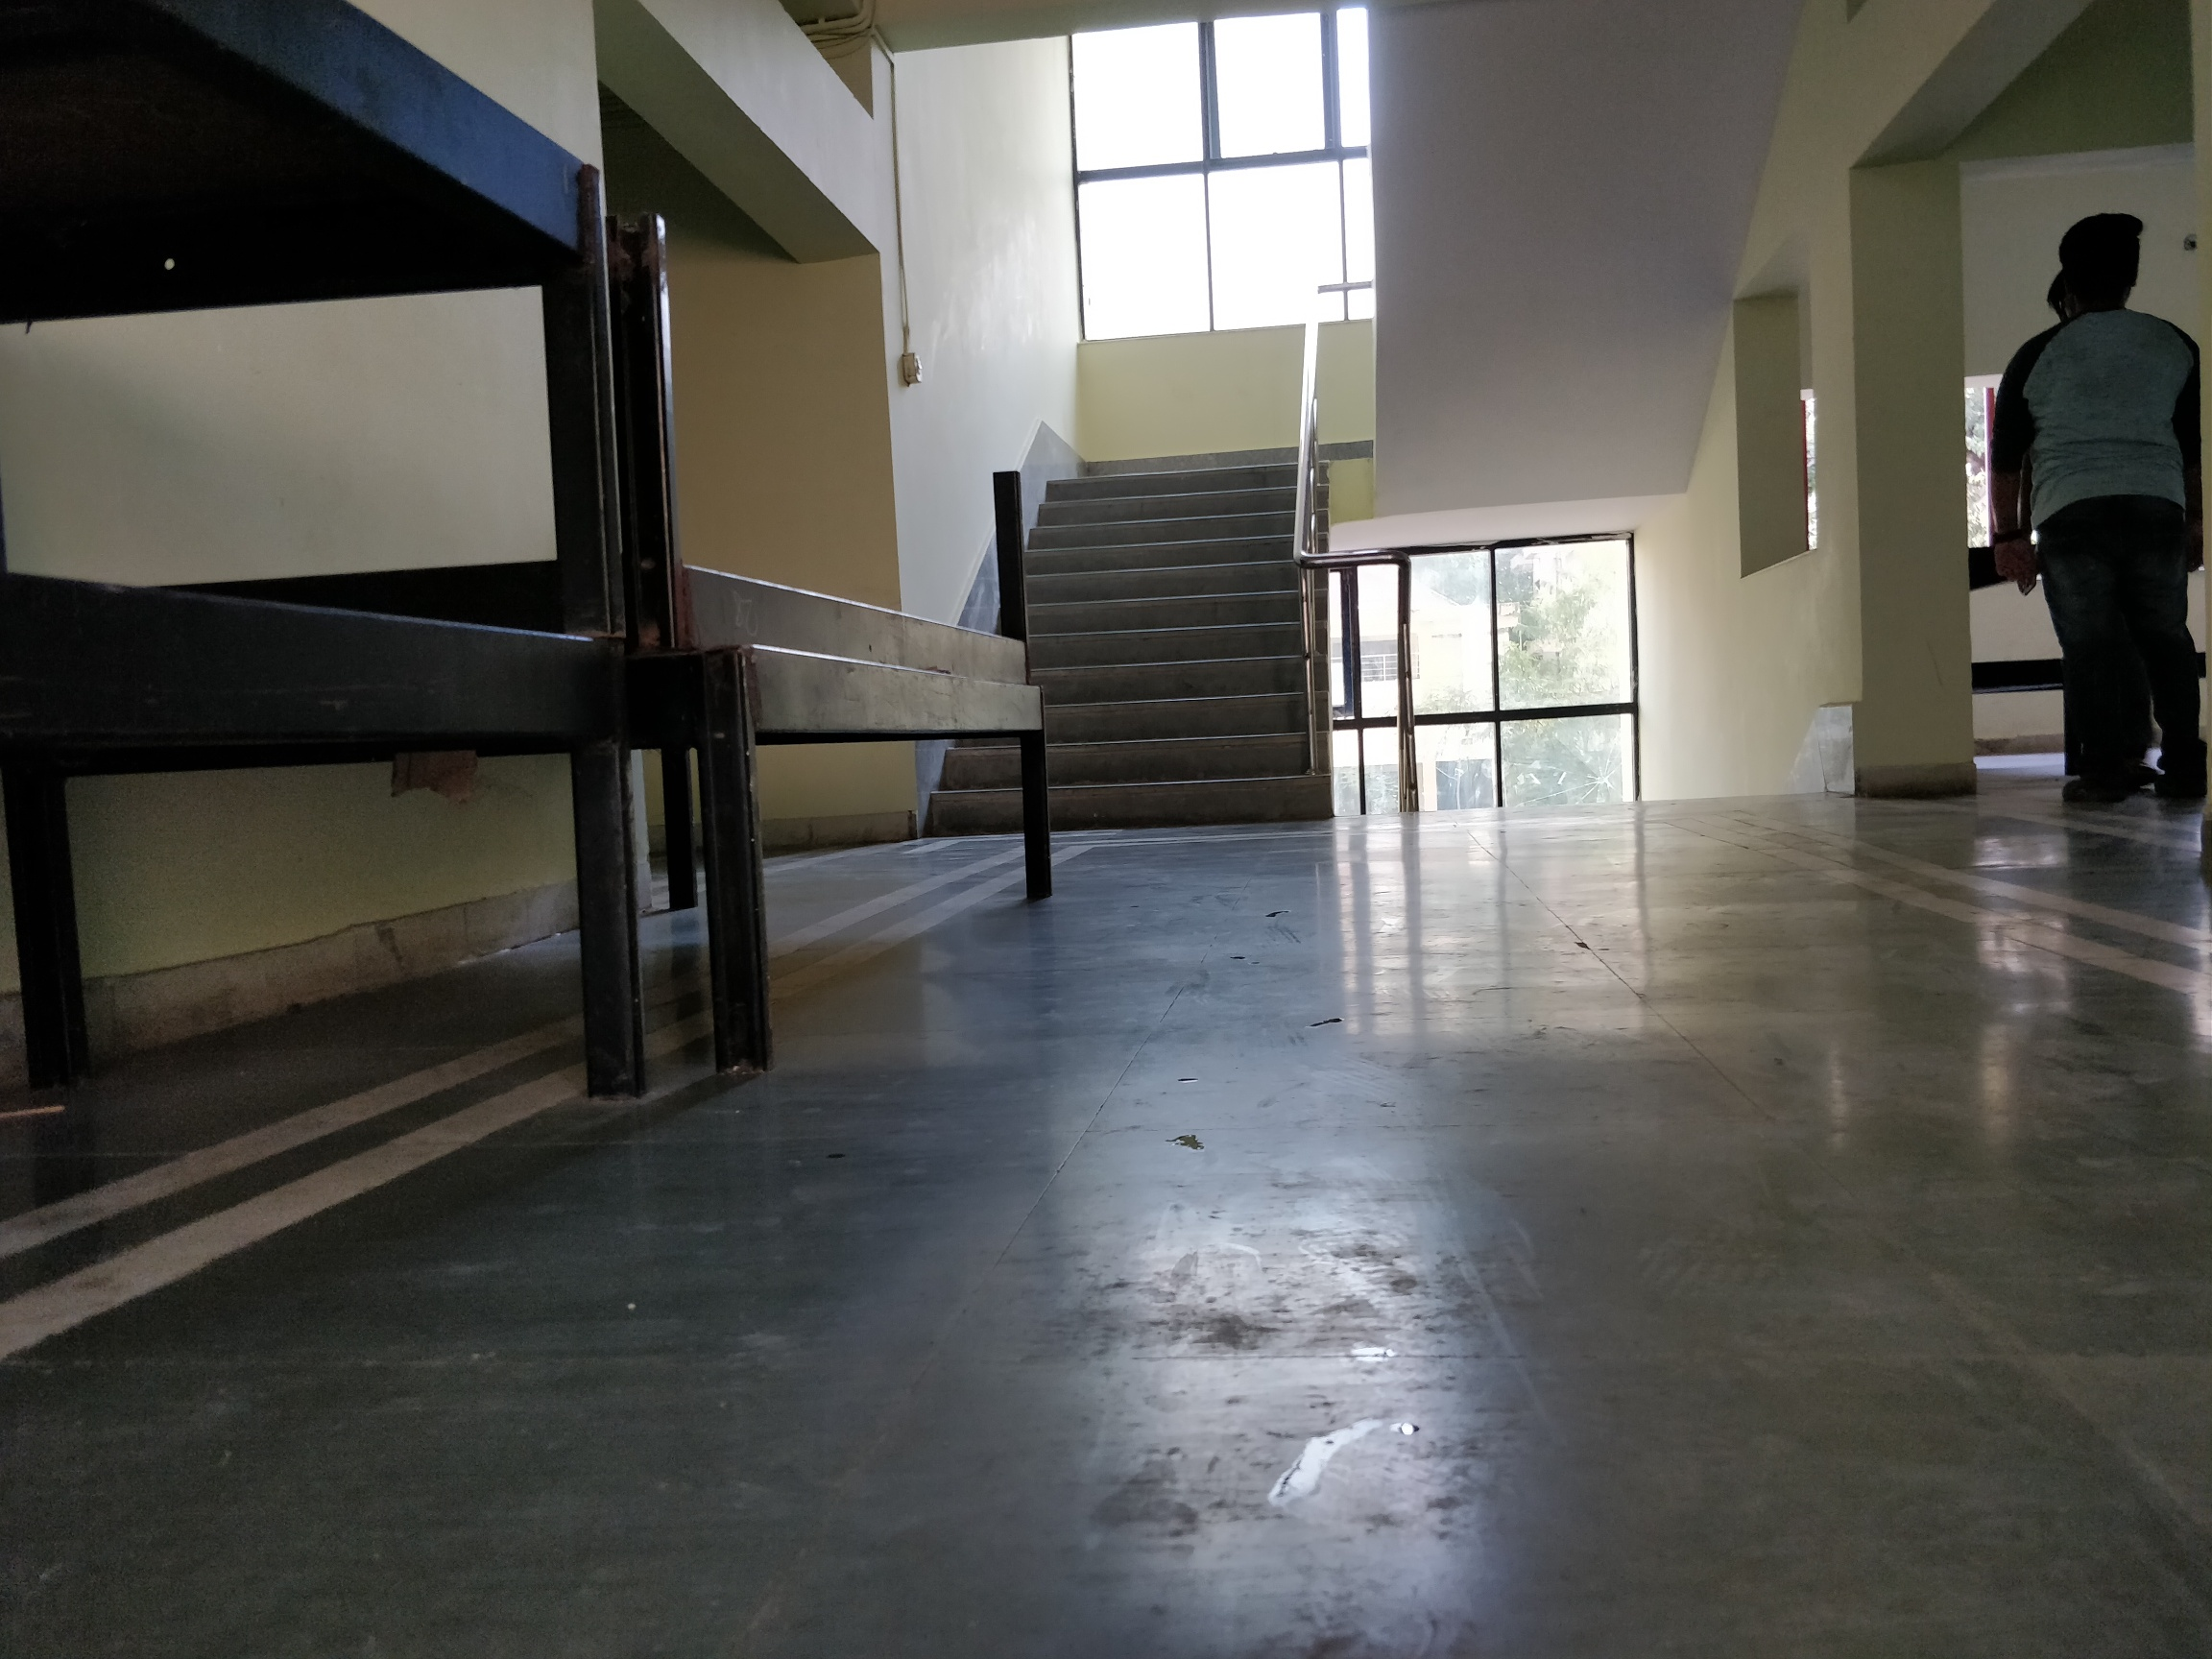stairs_up: (961, 460, 1320, 810)
